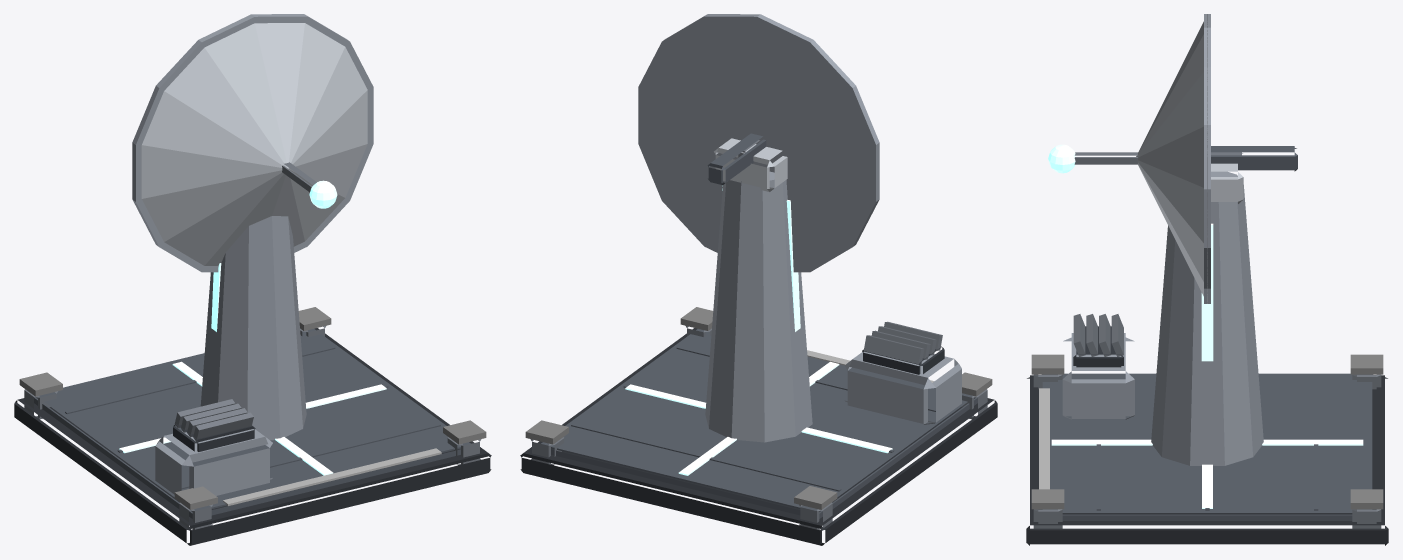
Rendered from radar.glb.
The picture shows the model from 3 angles, left to right: view 1: azimuth 30°, elevation 25°; view 2: azimuth 150°, elevation 25°; view 3: azimuth 270°, elevation 25°; orthographic projection. The views are drawn at different scales.
Visible parts, largest first — view 1: body, spinner; view 2: body, spinner; view 3: body, spinner.
Boxes of the visible parts, bbox=[...] form: body: bbox=[14, 216, 491, 545]; spinner: bbox=[132, 14, 373, 272]; body: bbox=[520, 138, 997, 545]; spinner: bbox=[638, 14, 879, 272]; body: bbox=[1026, 163, 1388, 545]; spinner: bbox=[1048, 14, 1297, 303].
Size of the model in its own units: 32 by 43.2 by 32.
